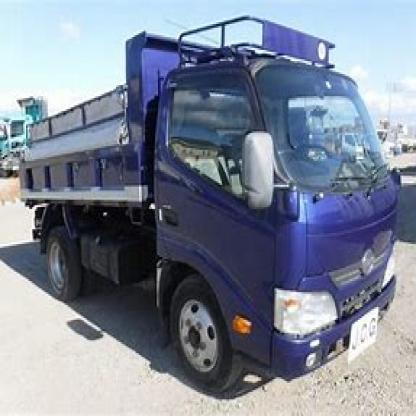dump_truck: (10, 24, 415, 407)
